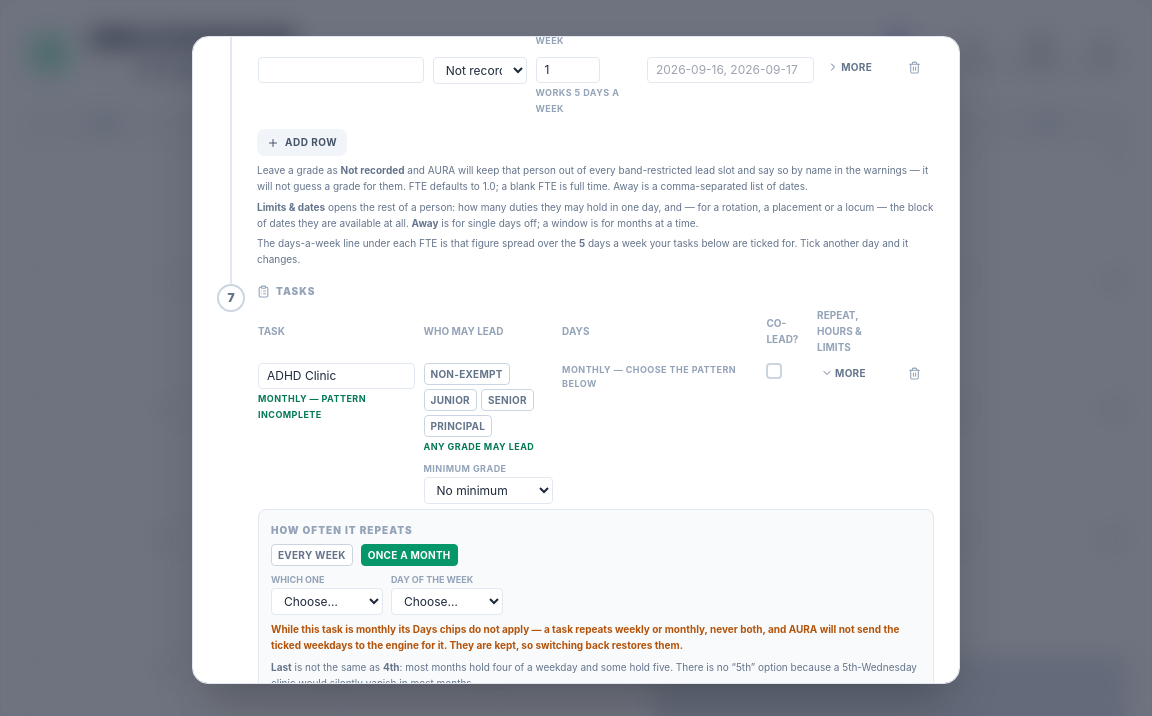
it: a monthly clinic, configured from the wizard › generates on ONE Wednesday instead of four, and the calendar shows it
Earlier steps of the test are not shown.
(page scrolled)
Select "3rd" in the dropdown labelled "Which one" at (327, 601), box [271,588,383,615]
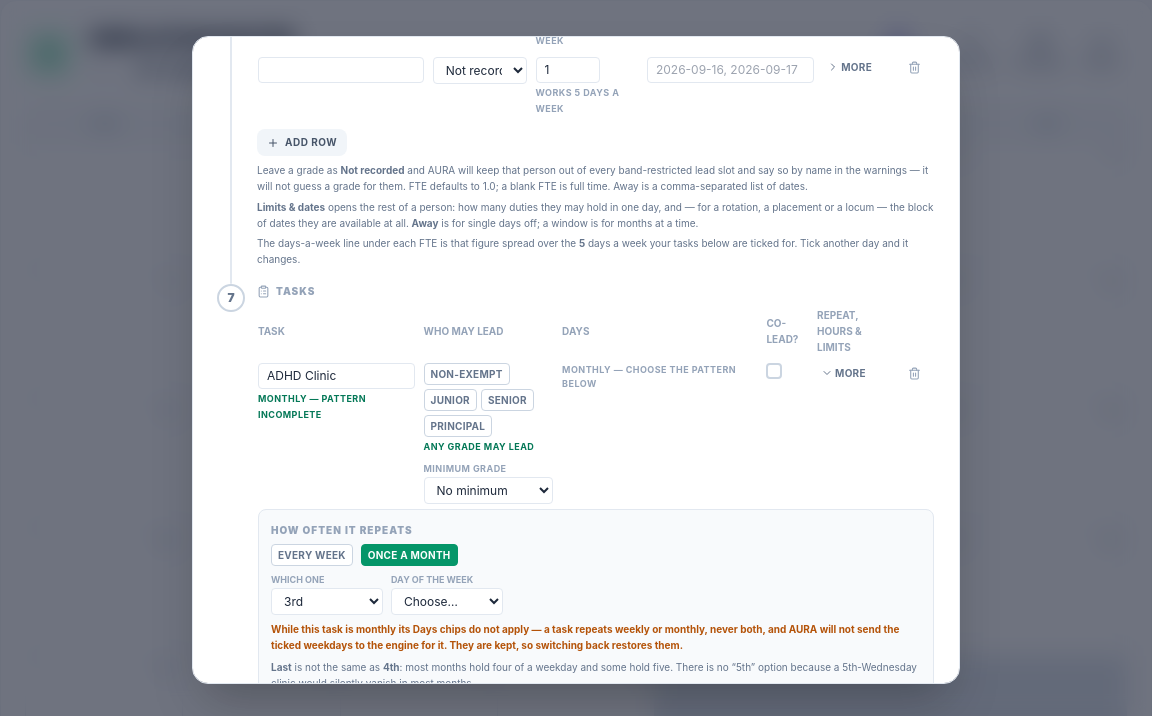
Select "Wed" in the dropdown named "Task row 1 monthly weekday" at (447, 601), box [391,588,503,615]
(page scrolled)
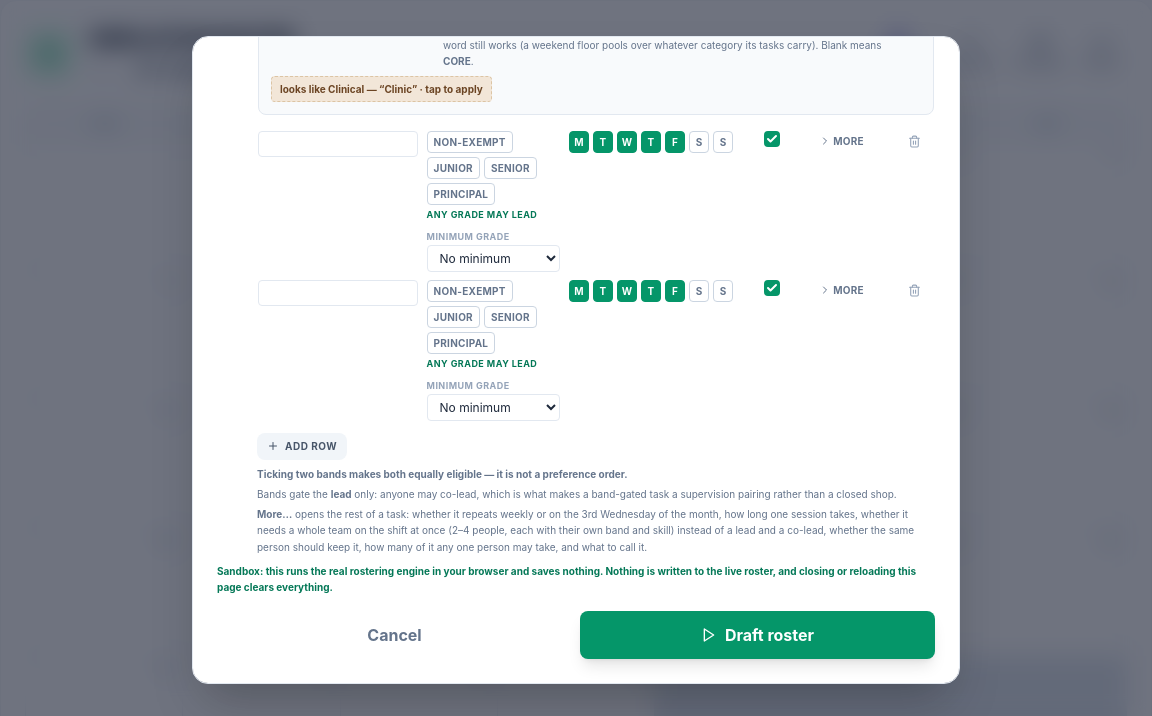
Click the button "Draft roster".
click(758, 635)  # box [580,611,935,659]
(page scrolled)
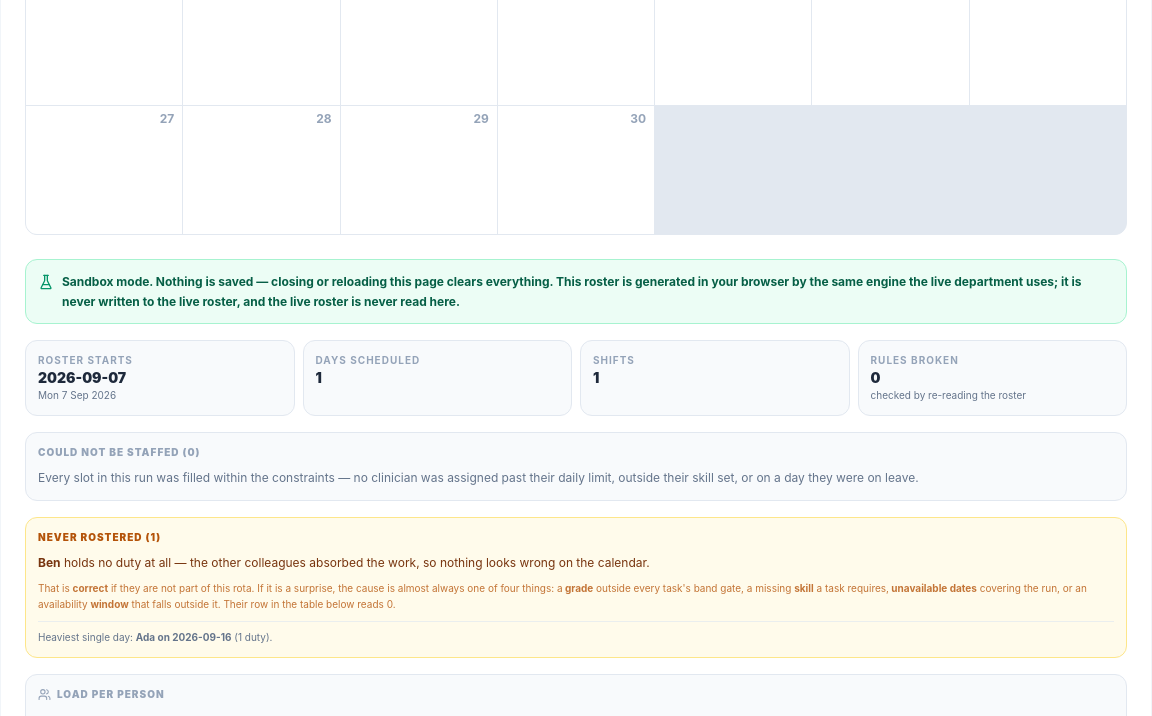
Check: the text "Days scheduled" is shown, box [316,354,420,366]
